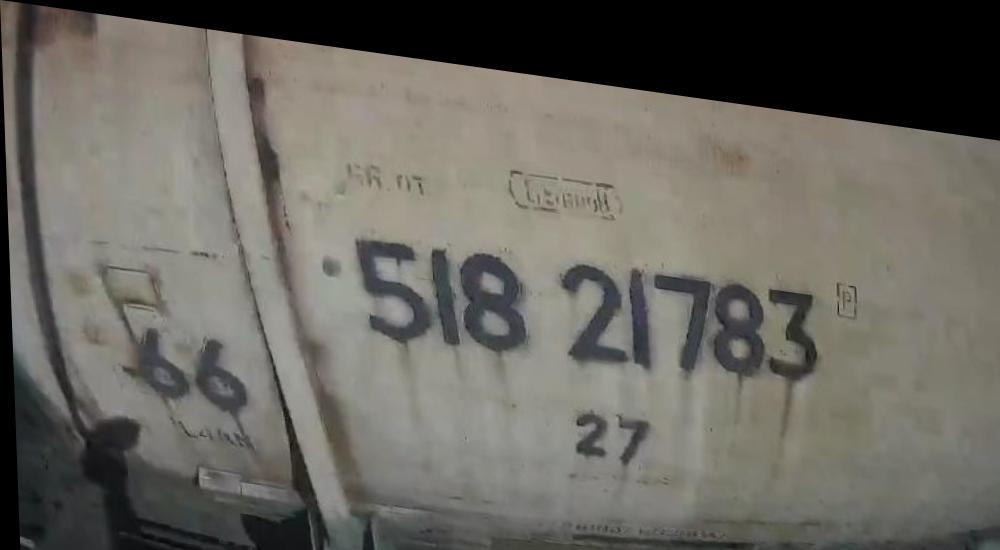Wagon-number: (347, 213, 829, 382)
